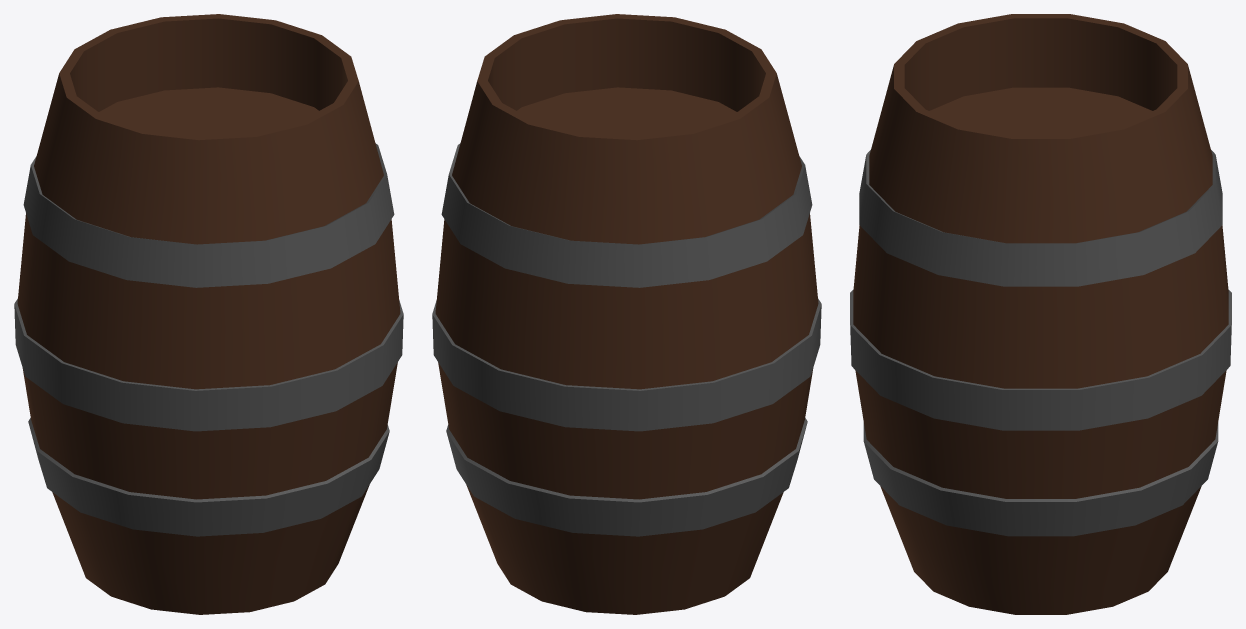
The model's file is Barile_INTERO.fbx.
The picture shows the model from 3 angles, left to right: view 1: azimuth 30°, elevation 25°; view 2: azimuth 150°, elevation 25°; view 3: azimuth 270°, elevation 25°; orthographic projection.
Parts seen in each view (by area): view 1: Barile INTERO; view 2: Barile INTERO; view 3: Barile INTERO.
Part boxes in pixels (<box>): Barile INTERO: <box>14,14,403,614</box>; Barile INTERO: <box>432,14,821,614</box>; Barile INTERO: <box>850,14,1231,614</box>.
Bounding box in the file's own units: 85.98 × 120 × 85.38.
